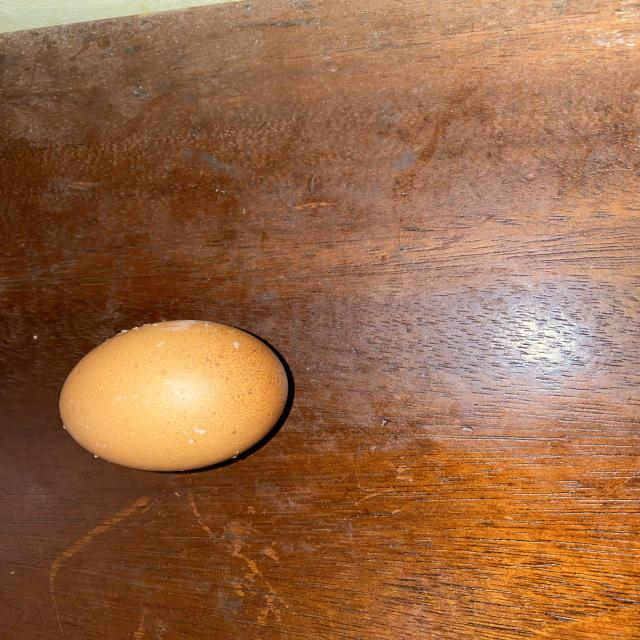egg: (52, 315, 299, 478)
